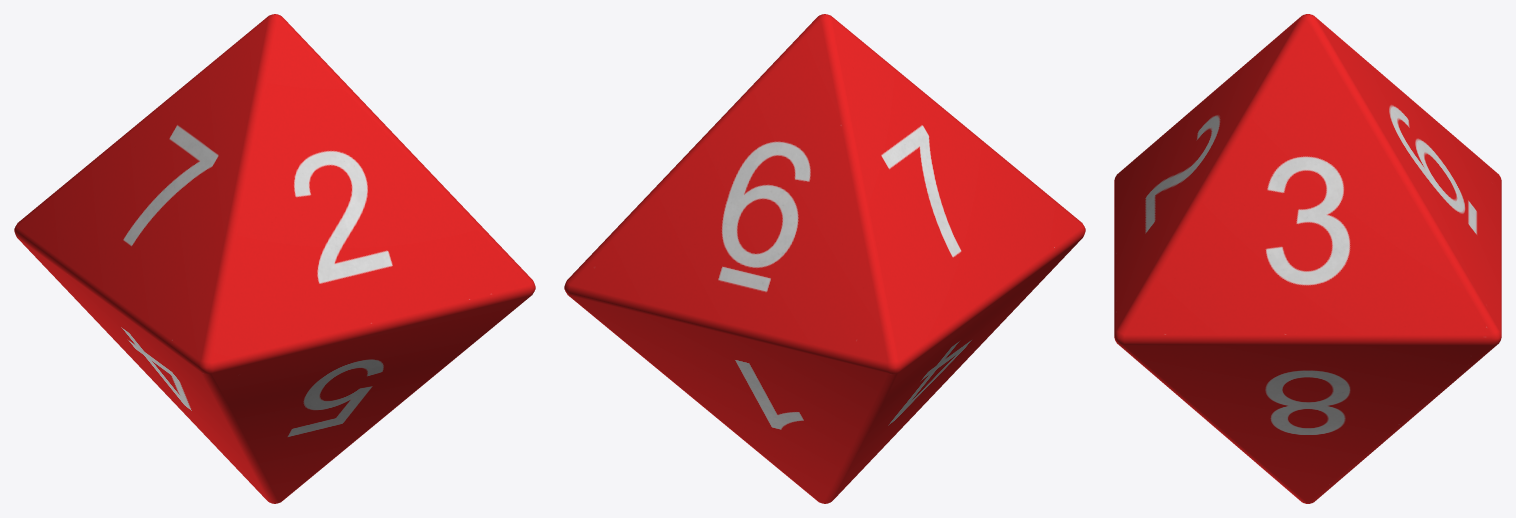
3 views of the same model, side by side, from view 1: azimuth 30°, elevation 25°; view 2: azimuth 150°, elevation 25°; view 3: azimuth 270°, elevation 25° (orthographic).
Parts seen in each view (by area): view 1: d8_red_plastic; view 2: d8_red_plastic; view 3: d8_red_plastic.
Boxes of the visible parts, bbox=[...] form: d8_red_plastic: bbox=[14, 14, 535, 503]; d8_red_plastic: bbox=[564, 14, 1085, 503]; d8_red_plastic: bbox=[1114, 14, 1501, 503].
Bounding box in the file's own units: 1.61 × 2.23 × 1.61.
1 material, 1 textured.
